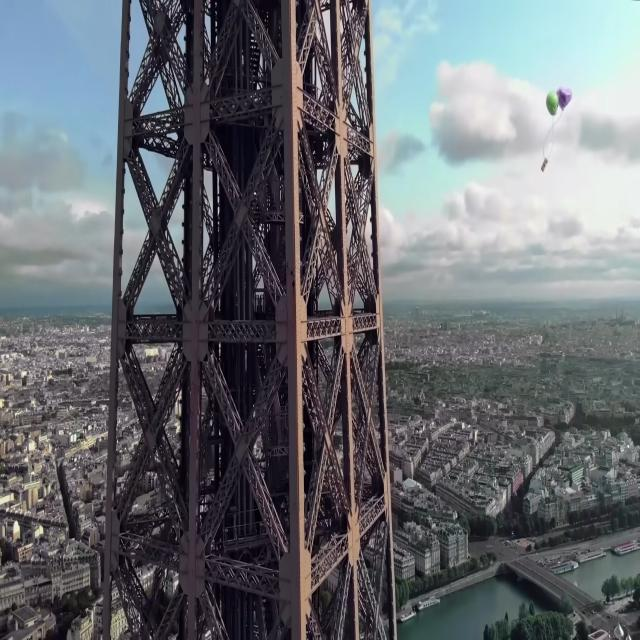balloon: (559, 88, 574, 109), (546, 92, 558, 113)
